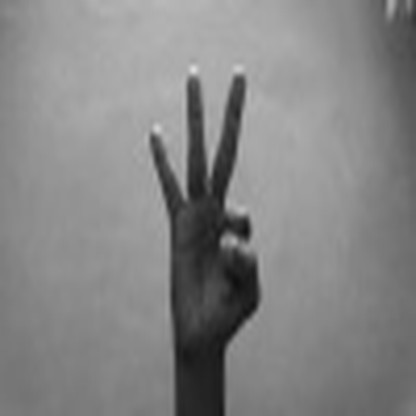f: (125, 59, 287, 338)
